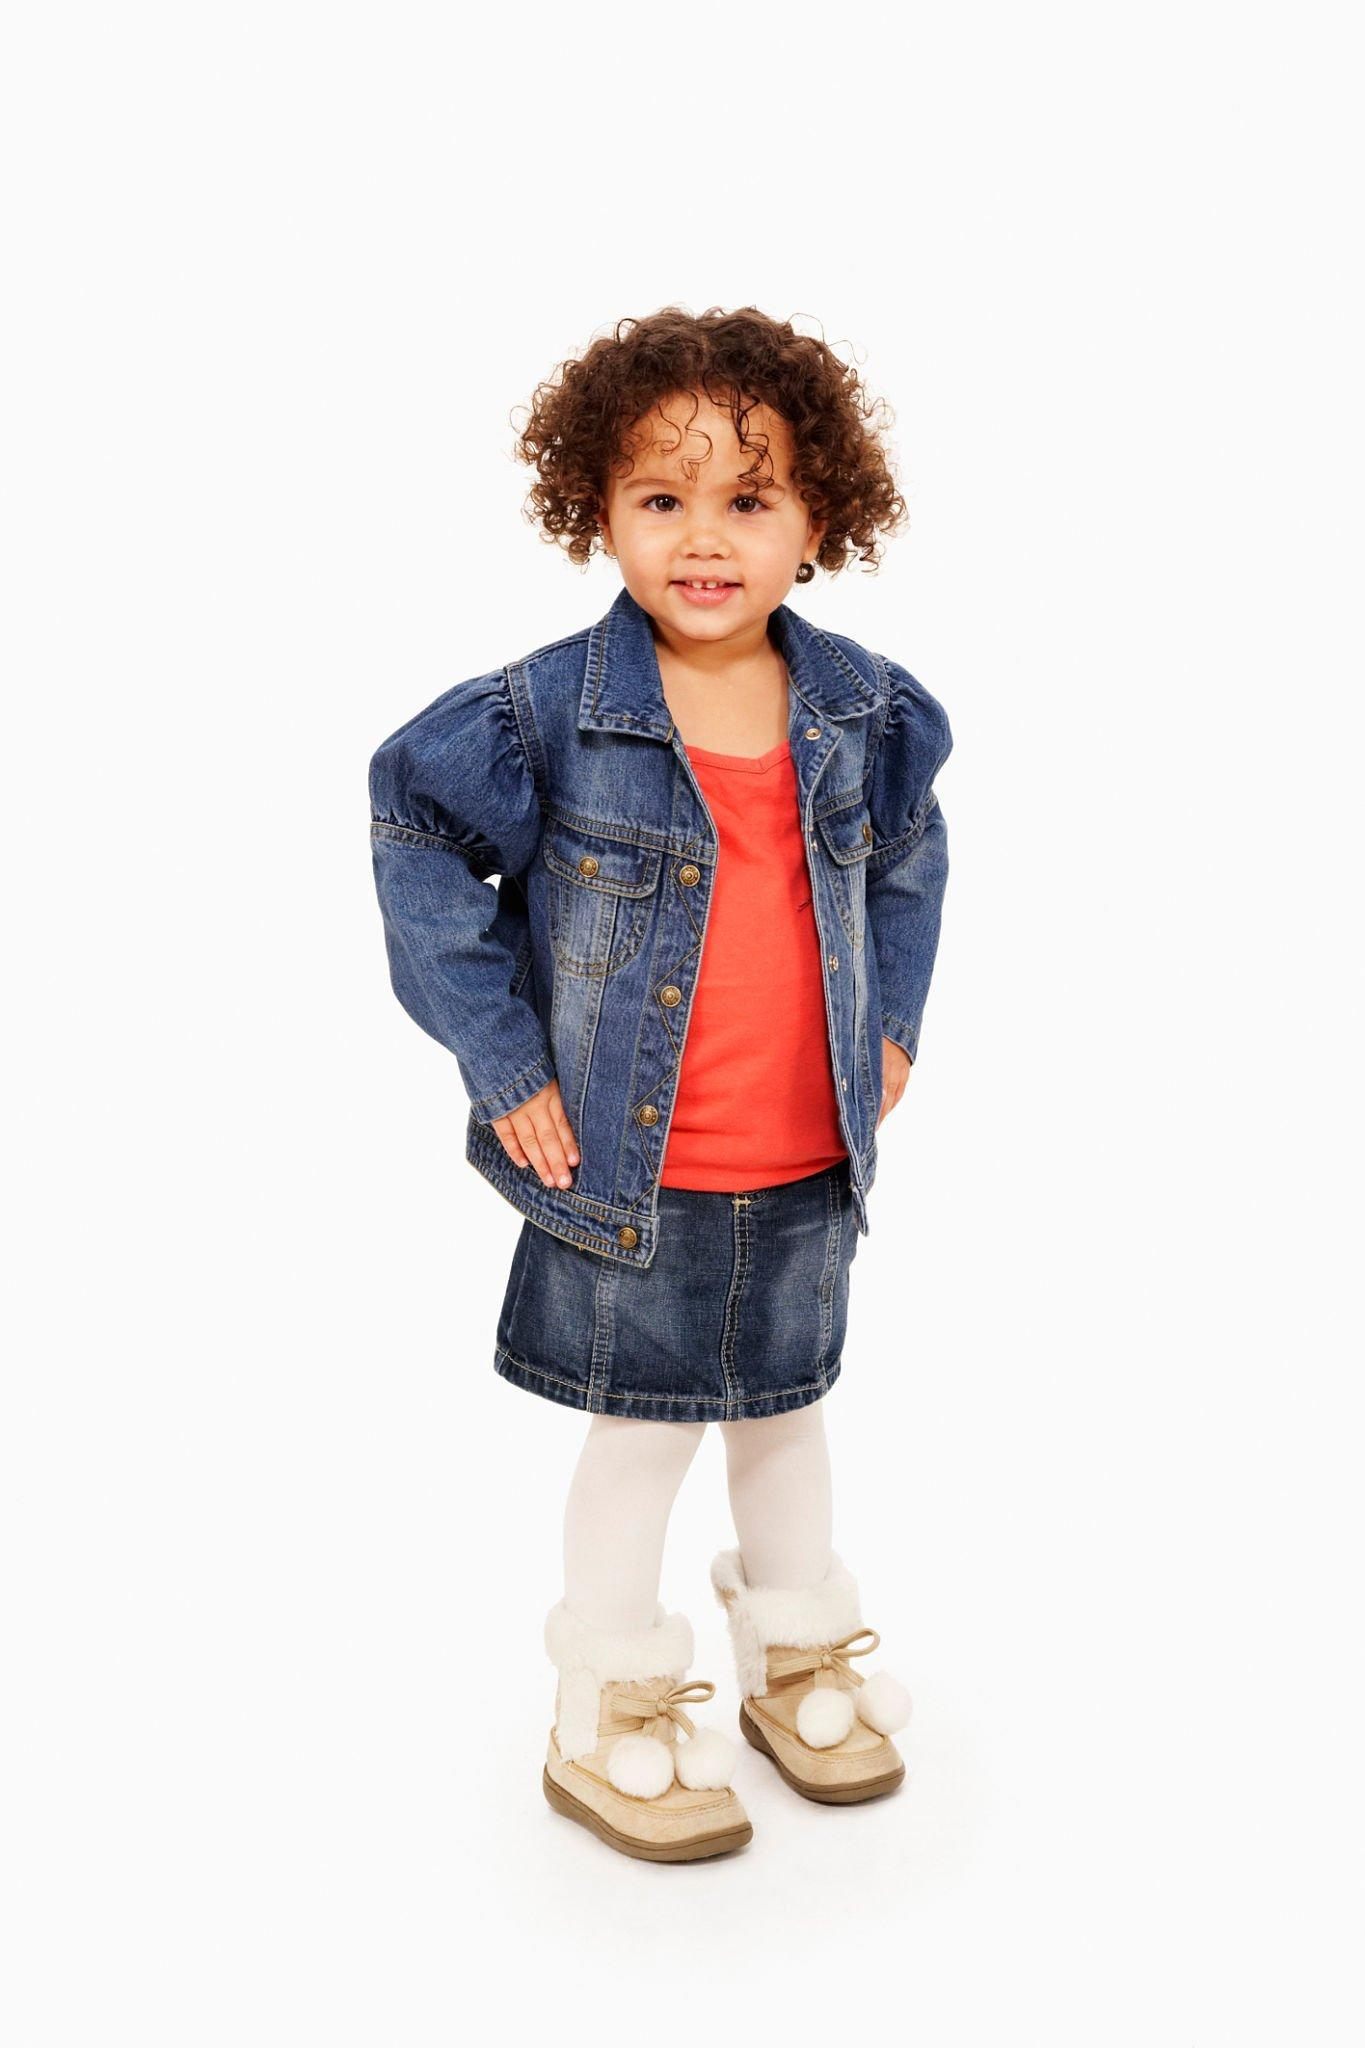Healthy: (577, 362, 853, 676)
